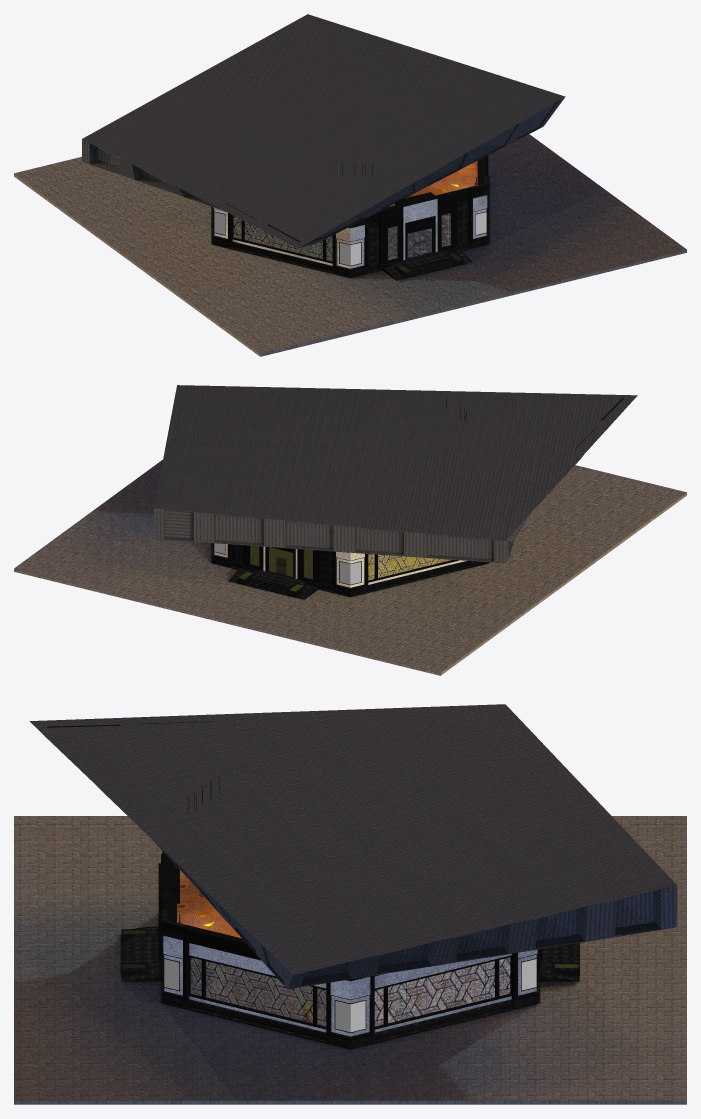
File: root-yayz.glb
3 views of the same model, one above another, from view 1: azimuth 30°, elevation 25°; view 2: azimuth 150°, elevation 25°; view 3: azimuth 270°, elevation 25° (orthographic). The views are drawn at different scales.
Parts seen in each view (by area): view 1: OUTSIDE, FLOOR; view 2: OUTSIDE; view 3: OUTSIDE, FLOOR.
Part boxes in pixels (left/top/right/bottom): OUTSIDE: left=14, top=14, right=686, bottom=356; FLOOR: left=388, top=161, right=477, bottom=206; OUTSIDE: left=14, top=385, right=686, bottom=675; OUTSIDE: left=14, top=704, right=686, bottom=1104; FLOOR: left=177, top=870, right=241, bottom=938.
Bounding box in the file's own units: 64.45 × 15.43 × 64.45.
Materials: 20 (16 with a texture image).
